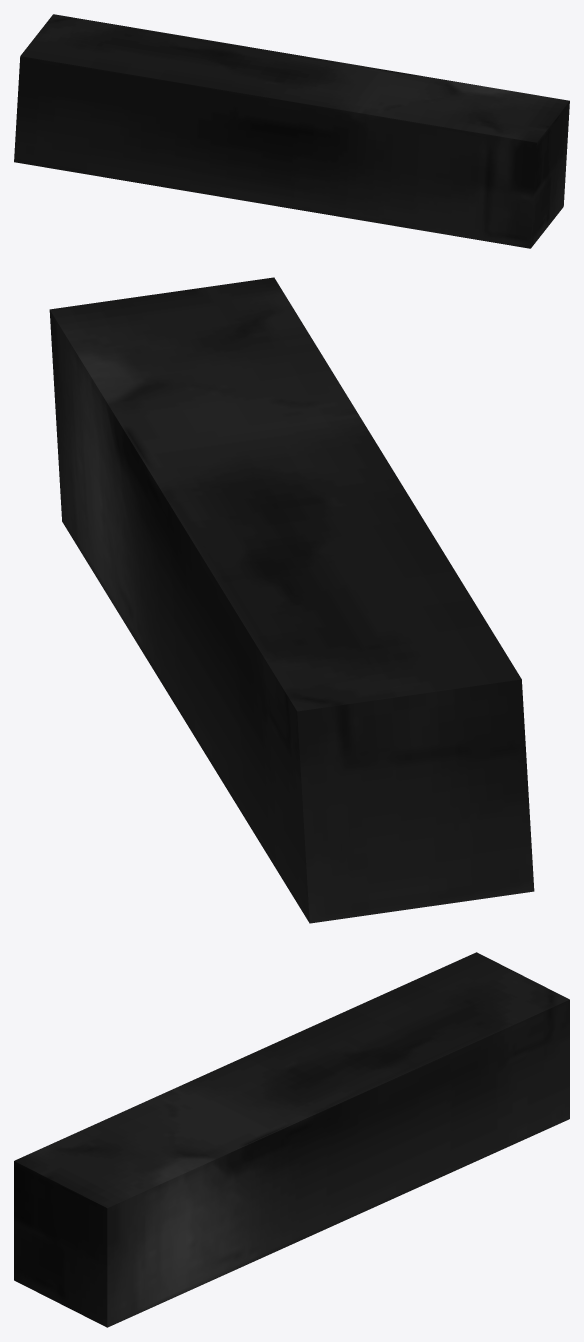
The model's file is frame__seat_upright_0.glb.
The picture shows the model from 3 angles, top to bottom: view 1: azimuth 30°, elevation 25°; view 2: azimuth 150°, elevation 25°; view 3: azimuth 270°, elevation 25°; orthographic projection. The views are drawn at different scales.
Parts seen in each view (by area): view 1: world; view 2: world; view 3: world.
Part boxes in pixels (bbox=[...]): world: bbox=[14, 14, 569, 248]; world: bbox=[49, 277, 534, 923]; world: bbox=[14, 952, 569, 1327].
Bounding box in the file's own units: 0.1994 × 0.0622 × 0.2043.
1 material, 1 textured.
